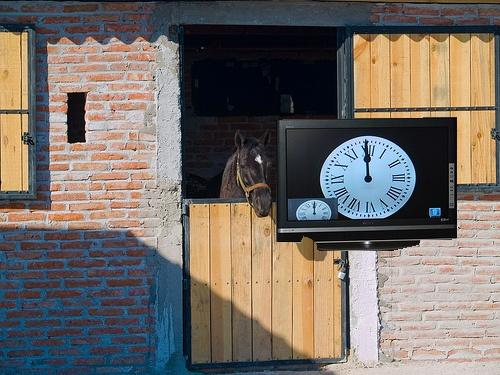tampered: (277, 118, 457, 251)
